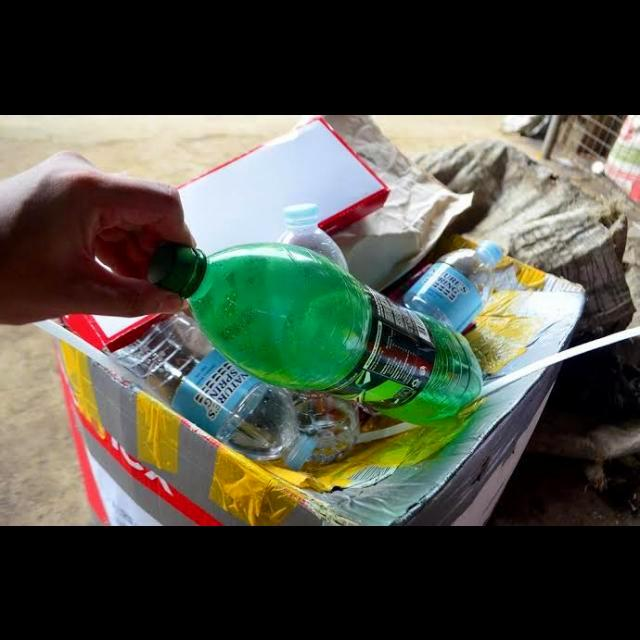cardboard: (177, 114, 386, 254), (54, 312, 173, 353)
plastic_bottle: (147, 241, 483, 428), (105, 311, 316, 469), (403, 240, 503, 333), (281, 201, 350, 275), (296, 392, 361, 467)
